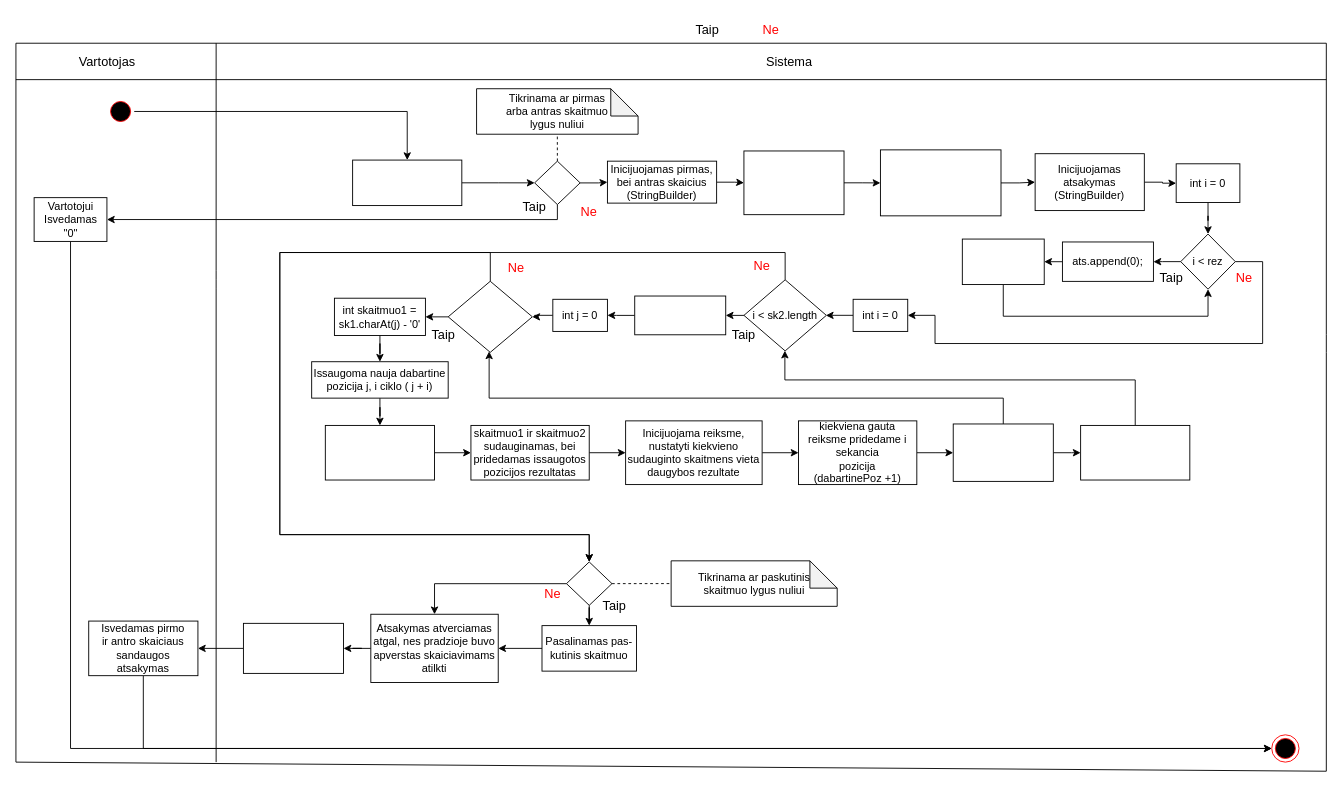
Image size: 1343x788. Some labels were removed from this diagram. The centre of each missing label's shape, as x and y in pixels:
Apverciami skaitmenys, kad skaiciavimas vyktu nuo galo (reverse): point 793,182
Dabartines pozicijos rezultatas issaugomas (ats.charAt(..)..): point 379,452
Grazina reiksme ir tada padidina vienetu (i++): point 1135,452
Grazina reiksme ir tada padidina vienetu (j++): point 1002,452
Grazina reiksme jau padidinta vienetu (++i): point 1002,261
Grazinamas atsakymas: point 293,647
int skaitmuo2 = sk2.charAt(i) - '0': point 680,315
Issaugomas sandaugos rezultatas(Sudedamas pirmo, bei antro skaiciaus ilgis): point 940,182
j < sk1.length: point 489,316
Suvedamas pirmas ir antras skaicius kaip "String": point 407,182
